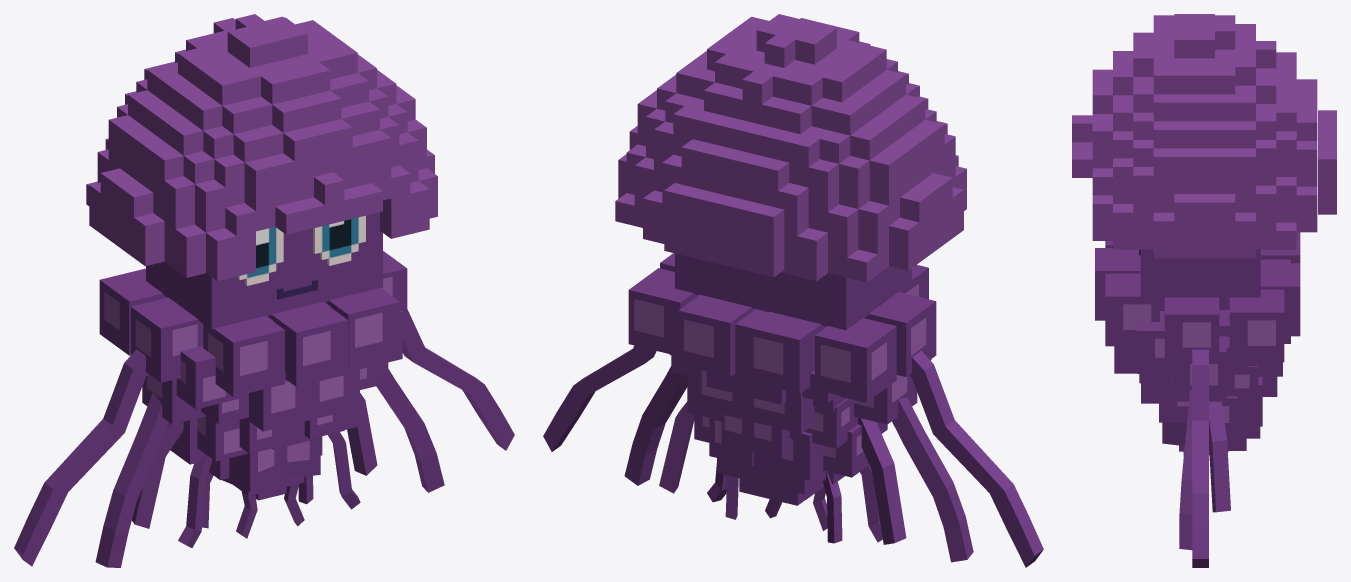
The model's file is GrapusMedusi.fbx.
3 views of the same model, side by side, from view 1: azimuth 30°, elevation 25°; view 2: azimuth 150°, elevation 25°; view 3: azimuth 270°, elevation 25° (orthographic). The views are drawn at different scales.
Parts seen in each view (by area): view 1: gra; view 2: gra; view 3: gra.
Part boxes in pixels (left/top/right/bottom): gra: left=14, top=14, right=514, bottom=567; gra: left=543, top=14, right=1043, bottom=567; gra: left=1072, top=14, right=1336, bottom=567.
Bounding box in the file's own units: 866 × 836 × 441.
